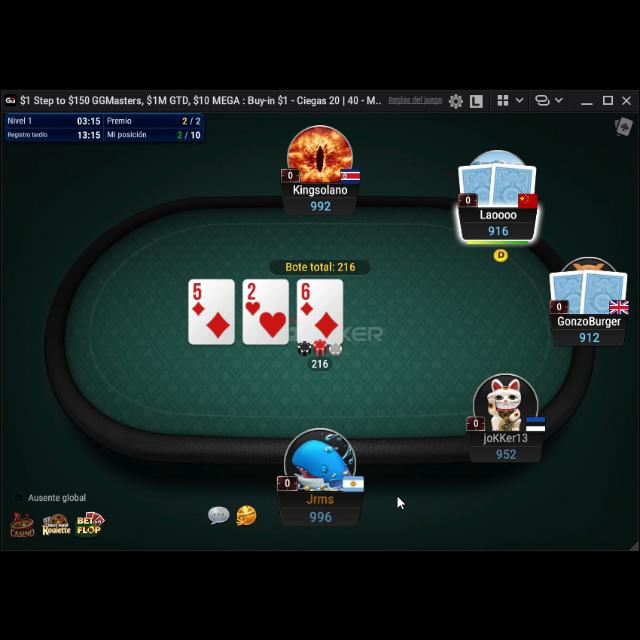2h: (244, 279, 262, 315)
5d: (190, 280, 206, 316)
6d: (298, 280, 314, 316)
bet_text: (310, 356, 330, 368)
card_back: (579, 263, 629, 313), (489, 156, 539, 206), (456, 158, 499, 205), (547, 264, 589, 312)
dealer: (492, 242, 510, 260), (492, 244, 510, 260)
pot_text: (284, 260, 360, 270)
stack_text: (307, 506, 333, 520), (486, 220, 509, 234), (310, 196, 332, 210), (578, 326, 600, 339), (495, 444, 517, 456)
